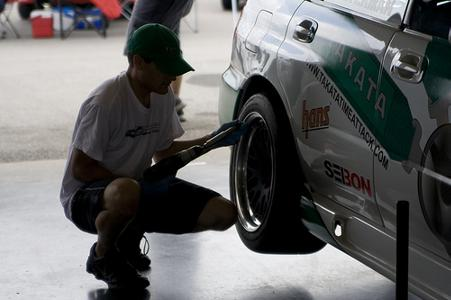person: (54, 21, 256, 296)
